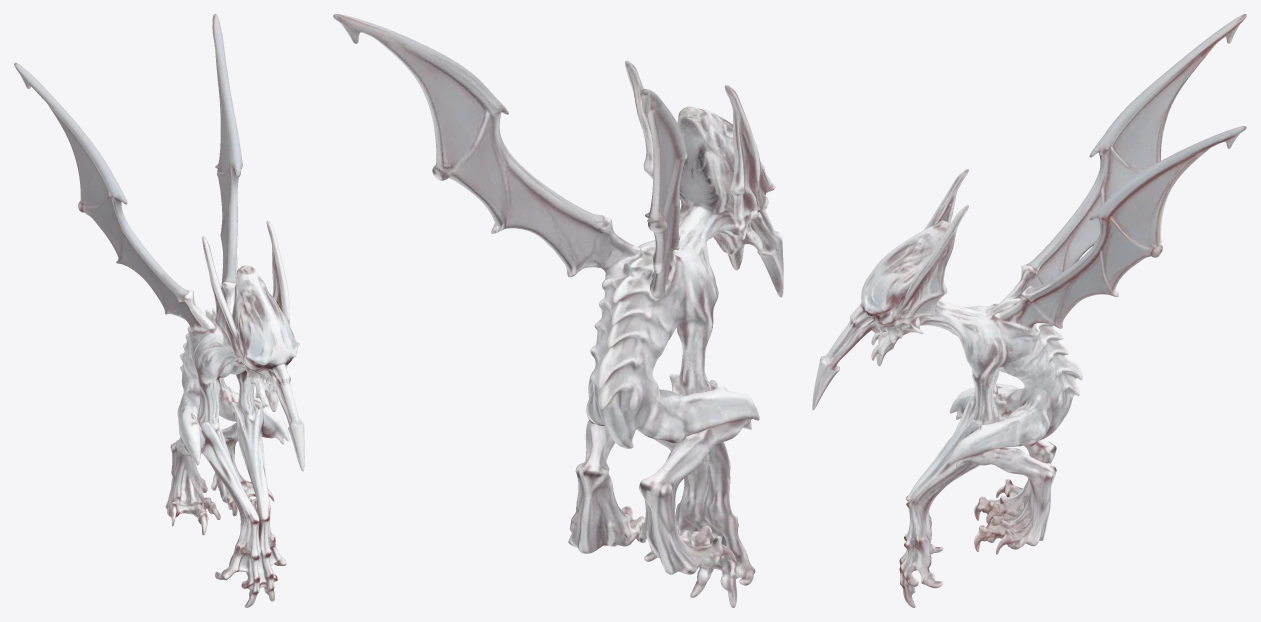
The model's file is icemephit.glb.
3 renders of one model, left to right at view 1: azimuth 30°, elevation 25°; view 2: azimuth 150°, elevation 25°; view 3: azimuth 270°, elevation 25°, orthographic. The views are drawn at different scales.
Parts seen in each view (by area): view 1: Mesh_0.010; view 2: Mesh_0.010; view 3: Mesh_0.010.
Boxes of the visible parts, x1=… form: Mesh_0.010: x1=14, y1=14, x2=304, y2=607; Mesh_0.010: x1=333, y1=14, x2=783, y2=607; Mesh_0.010: x1=812, y1=14, x2=1246, y2=607.
Bounding box in the file's own units: 0.8749 × 1.9 × 1.41.
Materials: 1 (1 with a texture image).
